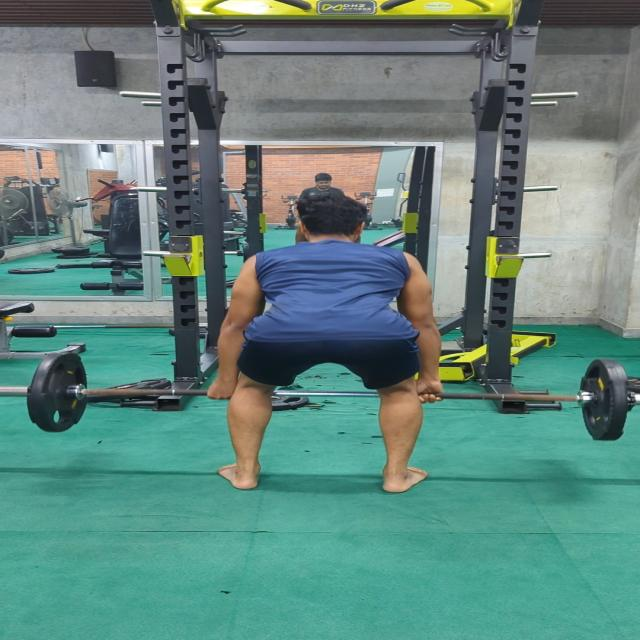Normal_Deadlifts: (201, 191, 451, 495)
